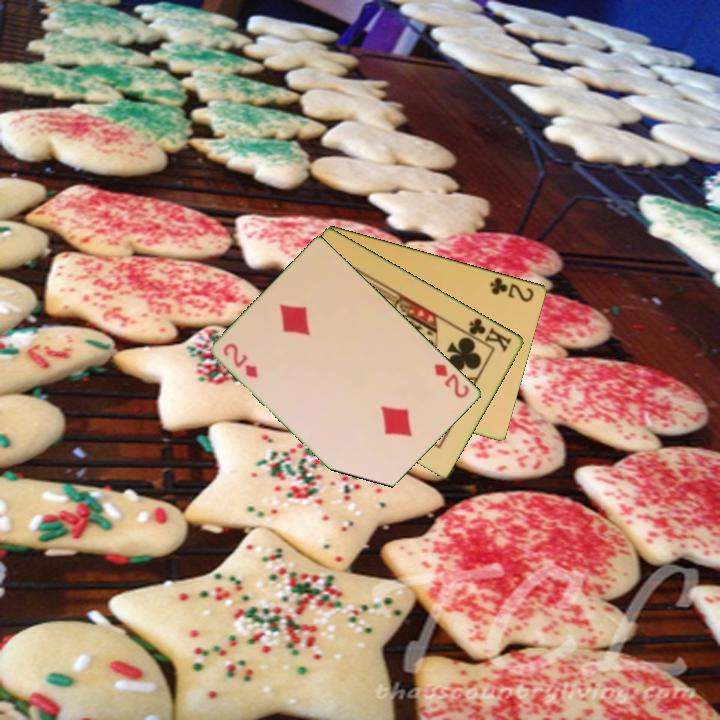2c: (486, 273, 537, 305)
2d: (431, 360, 473, 401), (220, 340, 261, 381)
Kc: (460, 314, 515, 355)
